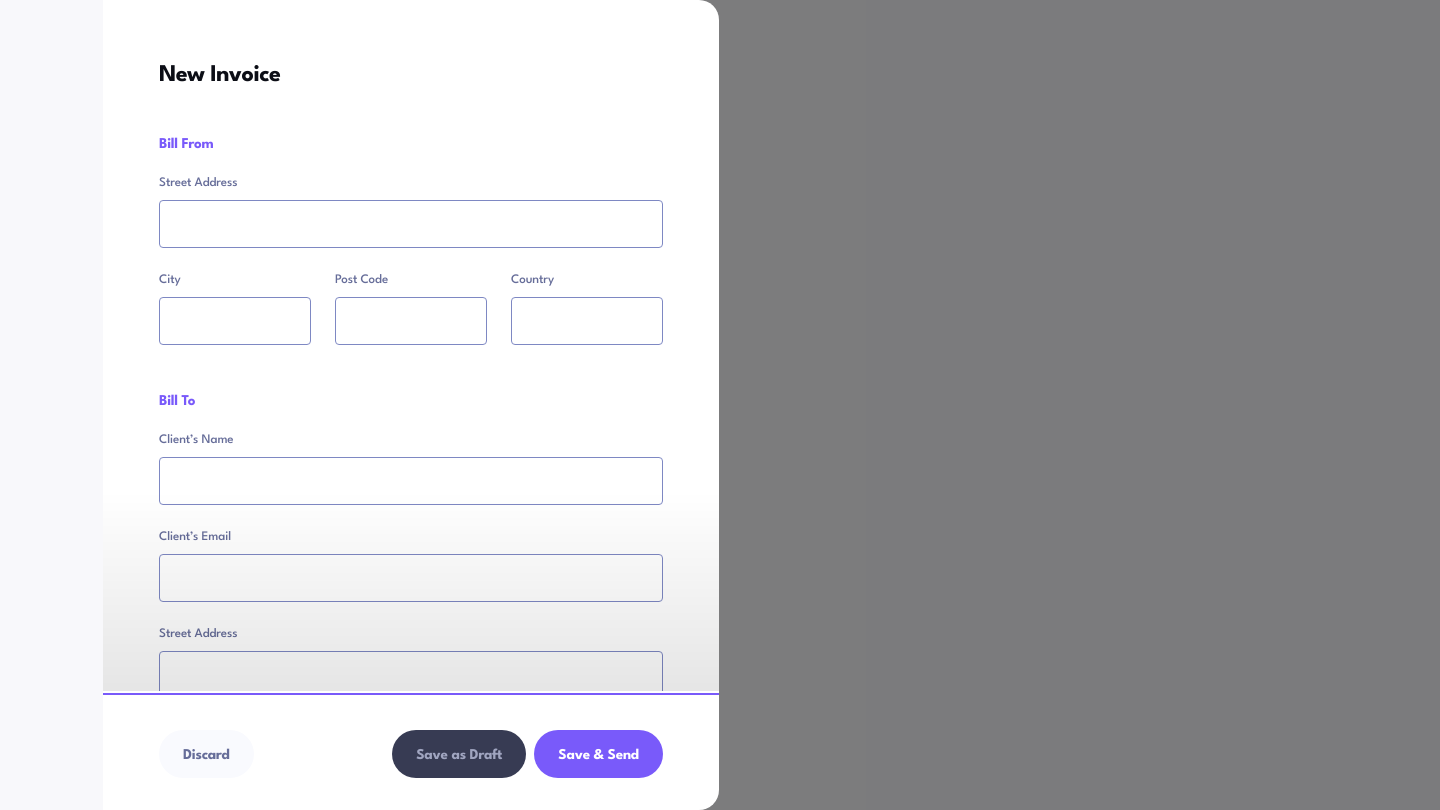
Scenario: rejecting an incomplete invoice › announces the problem in a live region
Click the button "Save & Send" at {"x": 599, "y": 754}, box [534,730,663,778]
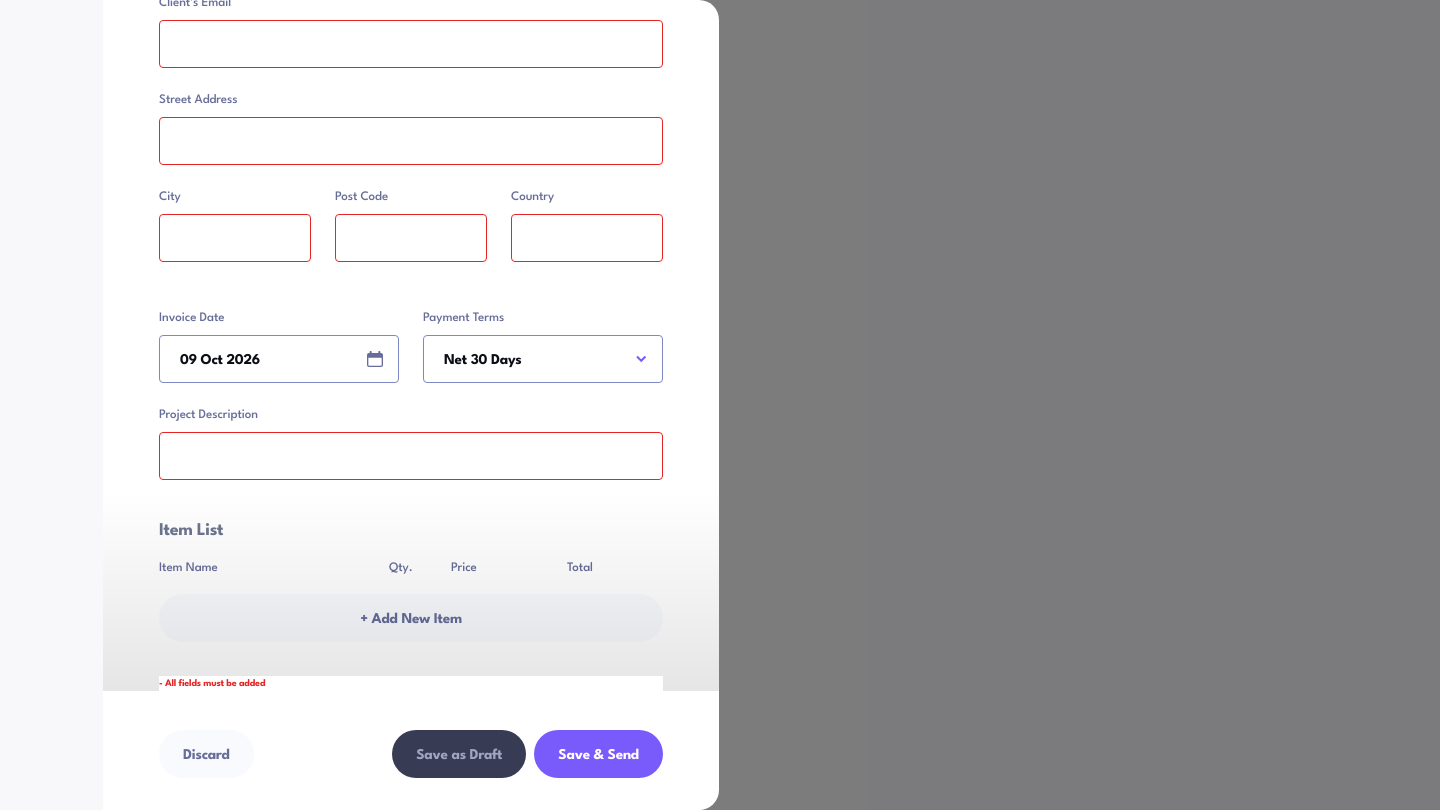
Result: the message reads "- All fields must be added" at [159,679,265,688]
